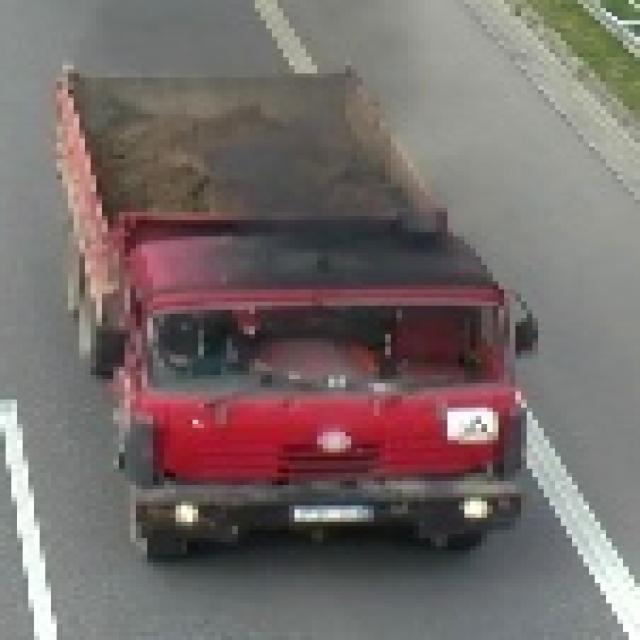truck: (47, 58, 534, 564)
